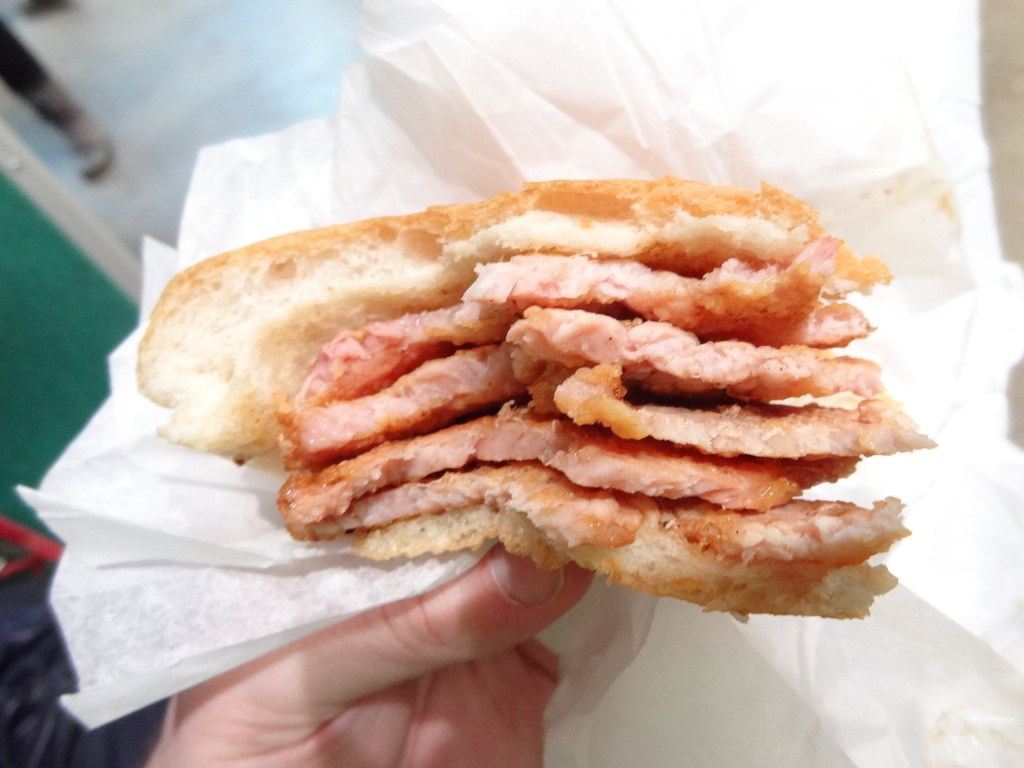sandwich: (130, 178, 942, 631)
